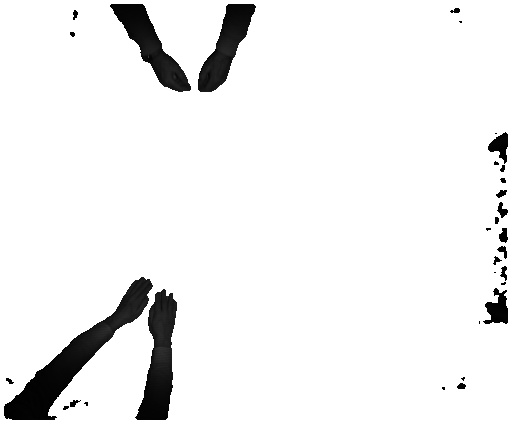hand: (109, 278, 155, 324), (146, 52, 194, 95), (149, 290, 183, 344), (197, 56, 235, 94)
